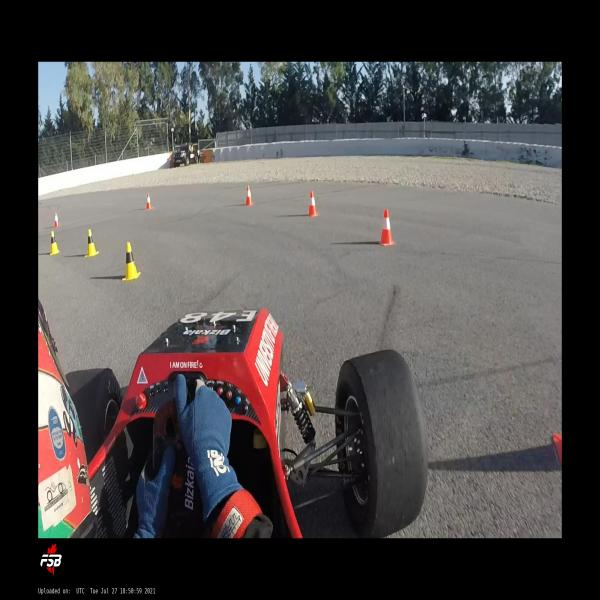orange_cone: (379, 209, 396, 246), (307, 191, 319, 217), (245, 185, 254, 206), (146, 192, 153, 210), (54, 212, 60, 228)
yellow_cone: (122, 242, 141, 281), (84, 229, 99, 258), (50, 230, 60, 256)
